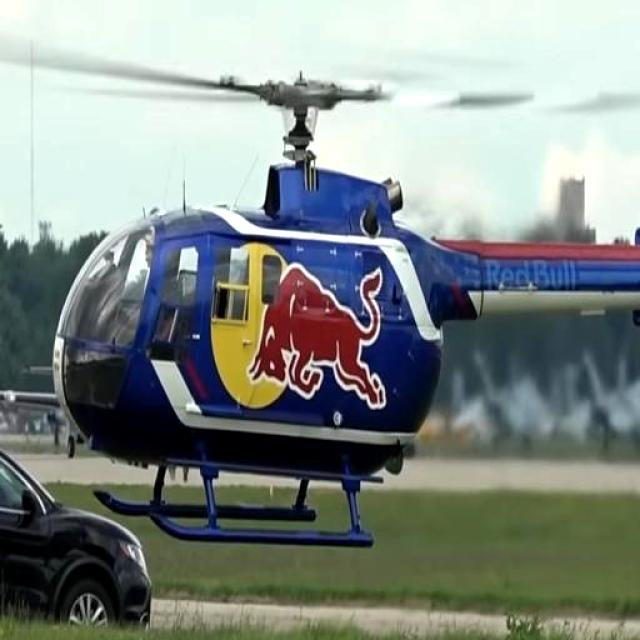drone: (46, 16, 640, 500)
